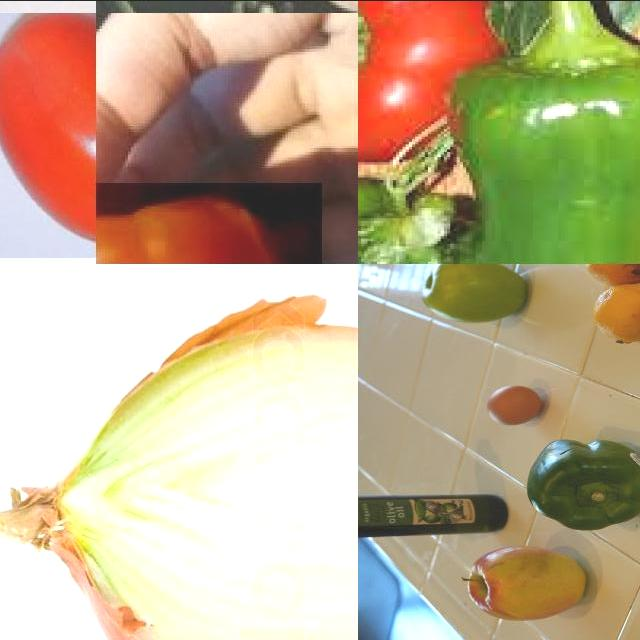bell_pepper: (518, 429, 640, 544)
egg: (482, 381, 548, 429)
onion: (4, 326, 359, 640)
tomato: (1, 13, 97, 259), (97, 184, 323, 264)
